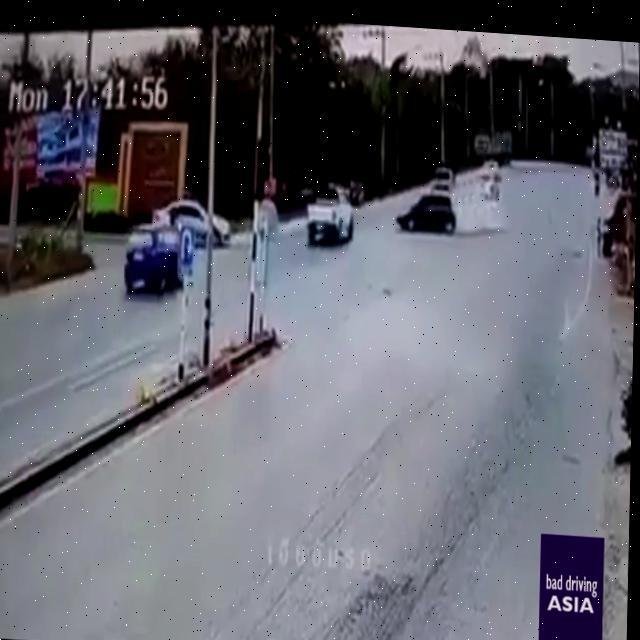multiple_accident: (136, 196, 250, 274)
normal: (294, 177, 361, 260)
